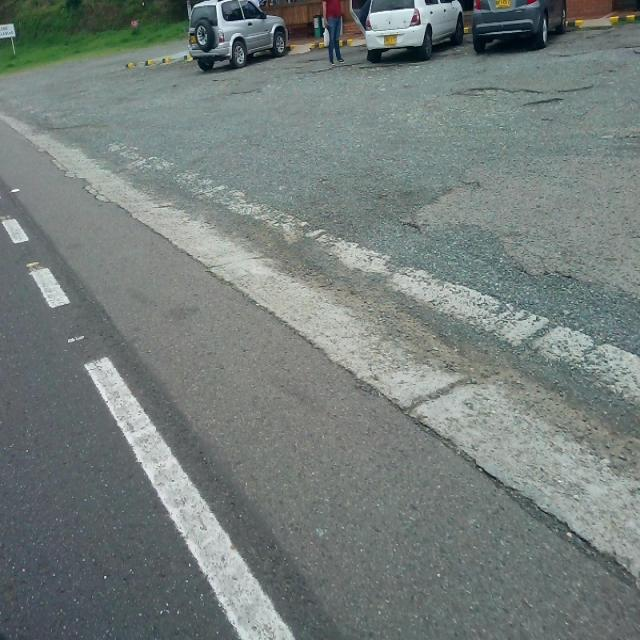DITCH: (1, 151, 638, 638), (2, 106, 638, 592)
